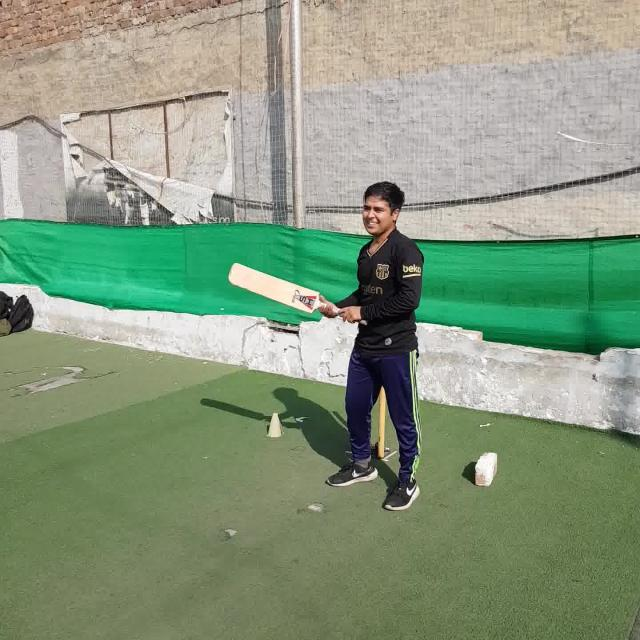bat: (228, 262, 366, 325)
